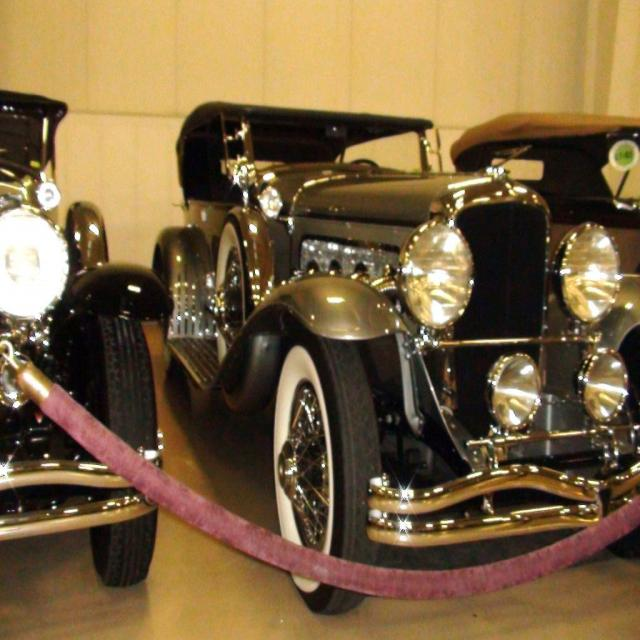other: (152, 103, 640, 613), (0, 89, 176, 582), (448, 114, 639, 268)
